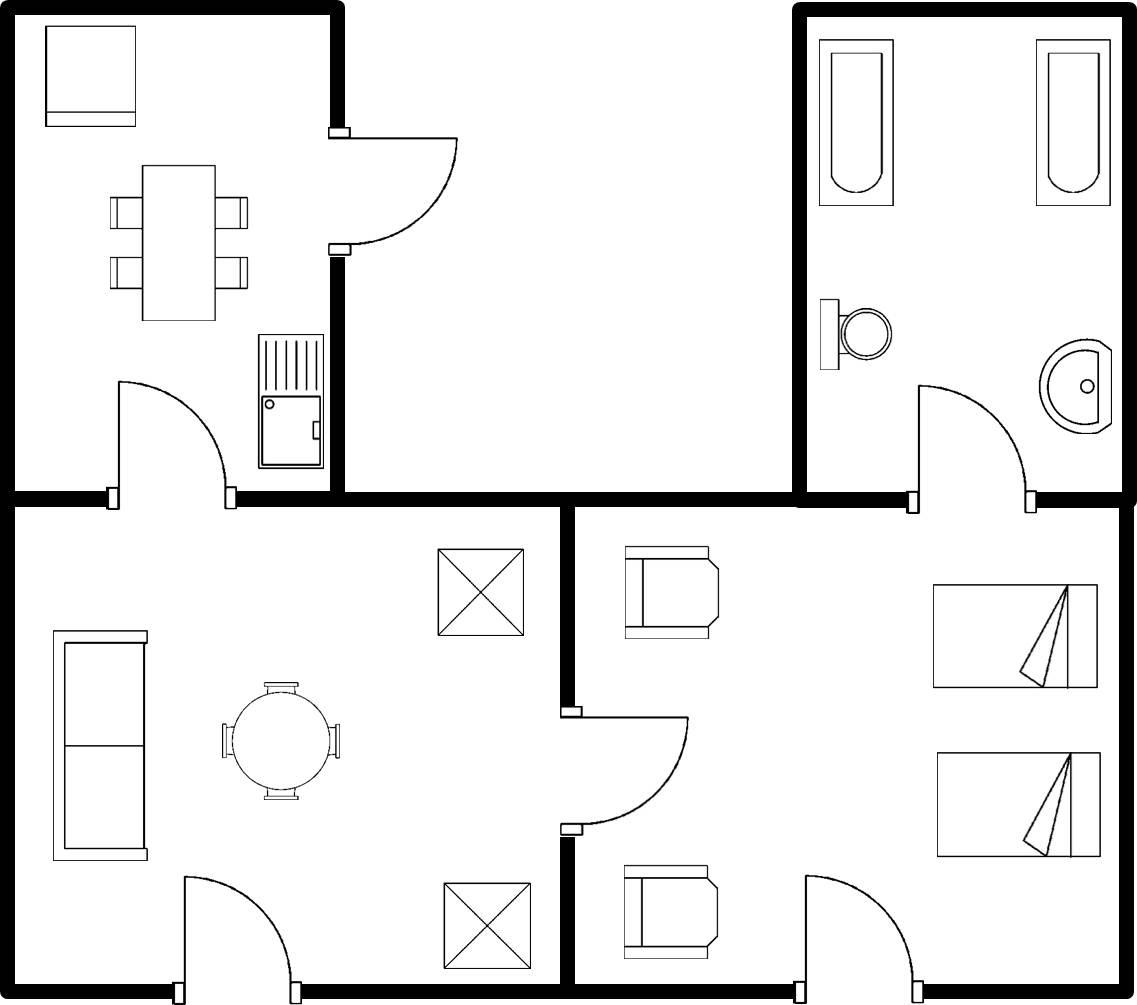bed: (927, 741, 1107, 865), (922, 578, 1104, 696)
dining_table: (103, 157, 252, 330)
round_table: (215, 675, 347, 807)
sink: (249, 326, 330, 478)
sofa: (42, 622, 156, 873)
toilet: (814, 286, 898, 382)
tub: (1025, 30, 1117, 210), (812, 31, 901, 213)
